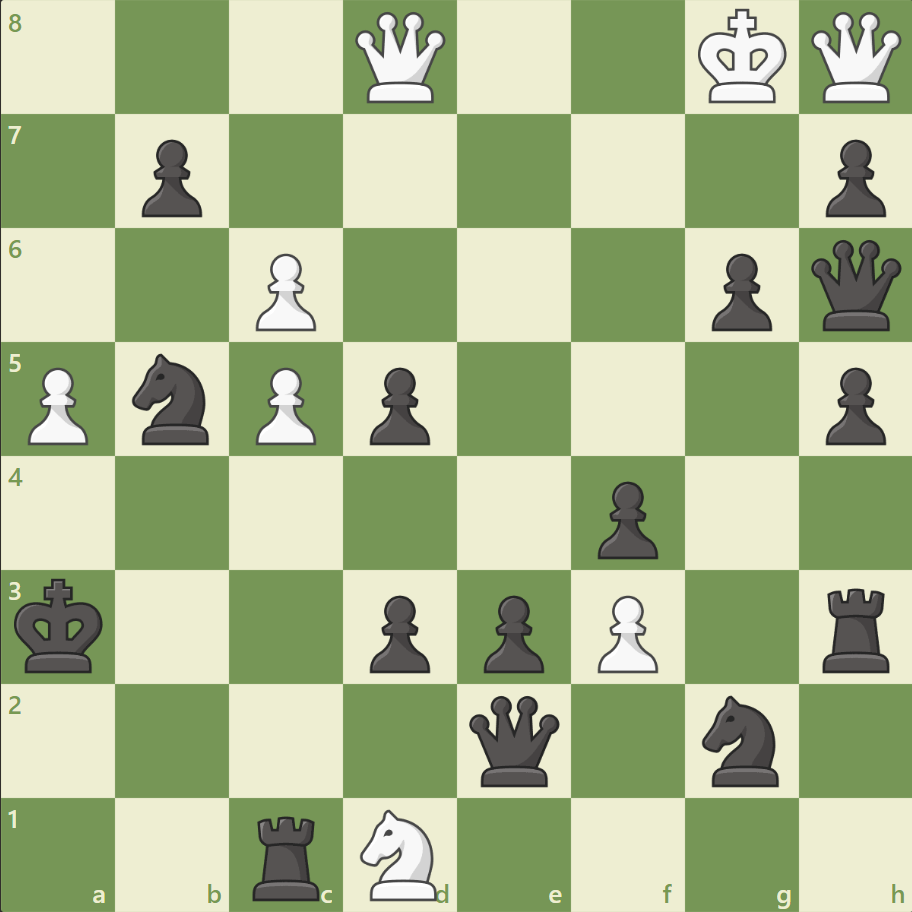K: (692, 4, 792, 112)
N: (351, 802, 449, 904)
P: (247, 246, 322, 337), (20, 359, 95, 450), (247, 359, 322, 450), (588, 586, 662, 677)
Q: (351, 9, 450, 108), (805, 9, 904, 108)
k: (11, 571, 111, 679)
n: (124, 348, 222, 450), (692, 688, 789, 791)
p: (133, 132, 208, 223), (701, 246, 776, 337), (474, 586, 549, 677), (815, 132, 889, 223), (361, 359, 435, 450), (815, 359, 889, 450), (588, 473, 662, 564), (361, 586, 435, 677)
q: (805, 236, 904, 335), (464, 690, 563, 789)
r: (246, 806, 329, 904), (814, 579, 897, 676)
